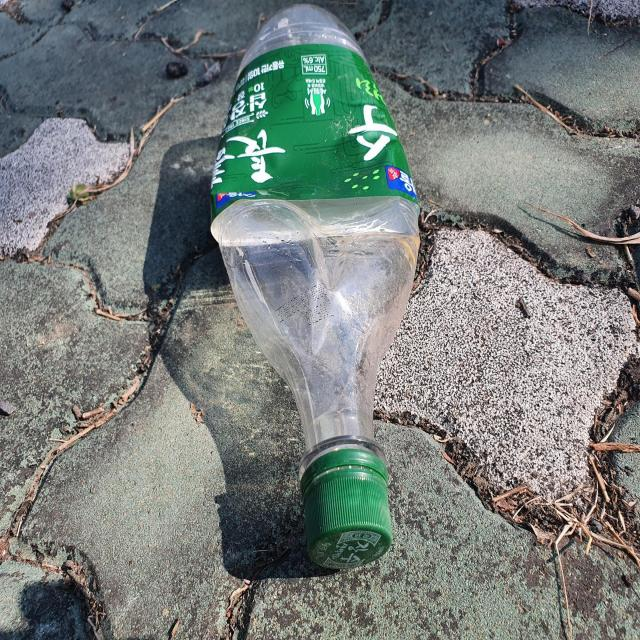plastic: (211, 4, 420, 569)
